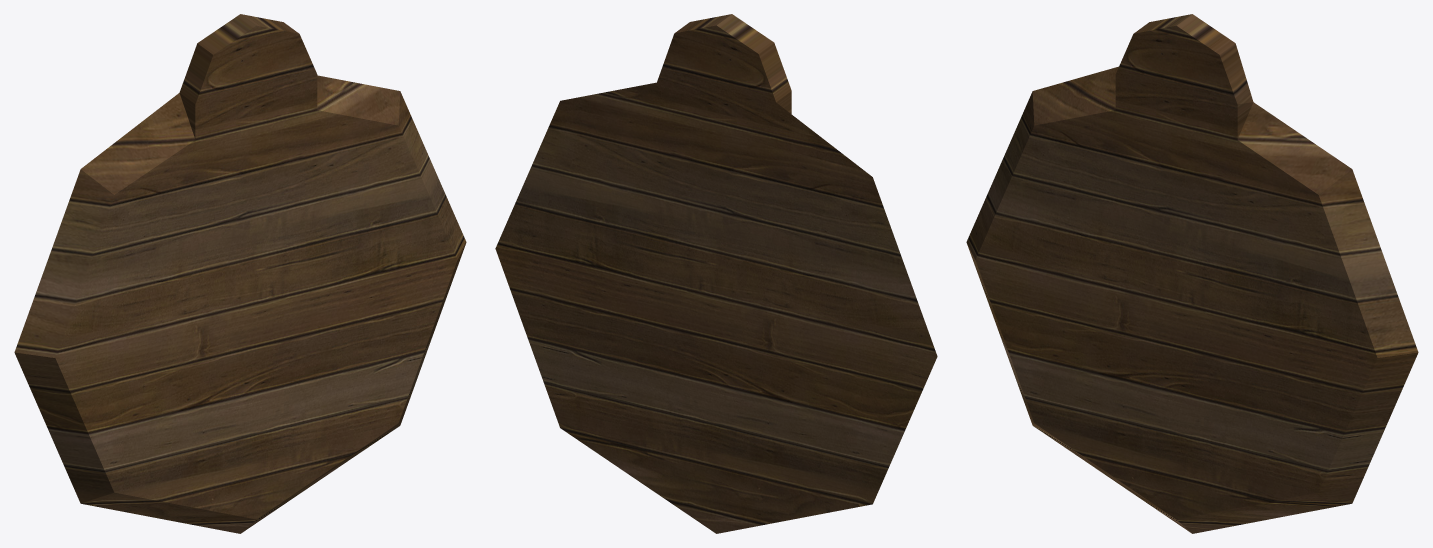
Rendered from part_circlewood.gltf.
3 views of the same model, side by side, from view 1: azimuth 30°, elevation 25°; view 2: azimuth 150°, elevation 25°; view 3: azimuth 330°, elevation 25° (orthographic). The views are drawn at different scales.
Parts seen in each view (by area): view 1: part_circlewood_glb; view 2: part_circlewood_glb; view 3: part_circlewood_glb.
Part boxes in pixels (x1,y1,x2,y2): part_circlewood_glb: (14,14,466,533); part_circlewood_glb: (495,14,937,533); part_circlewood_glb: (966,14,1418,533).
Size of the model in its own units: 2.23 by 2.45 by 0.1367.
Materials: 1 (1 with a texture image).
